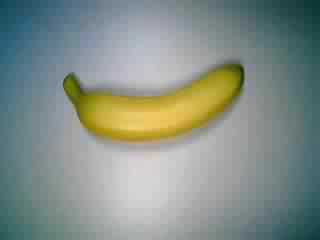banana: (58, 58, 246, 148)
